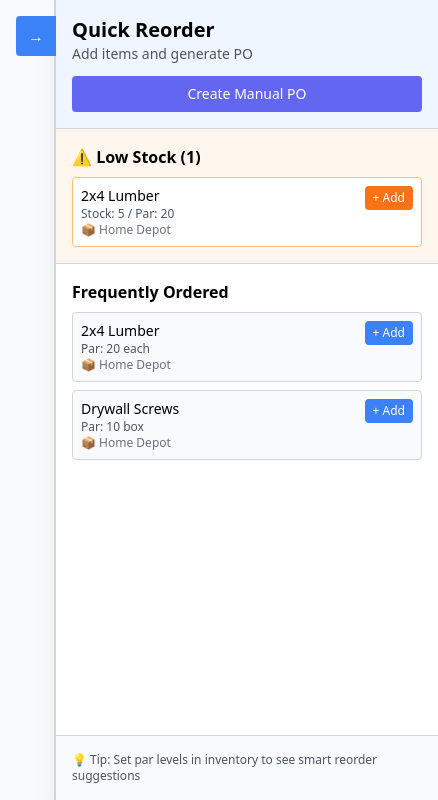
QuickReorder Component - Phase 2A › should add item to cart with par level quantity
Expected: the text "2x4 Lumber" below "⚠️ Low Stock (" is shown, 81,186 -> 159,205
Click the button "+ Add" in the row of "/ Par:" at (389, 198), box 365,186 -> 413,210
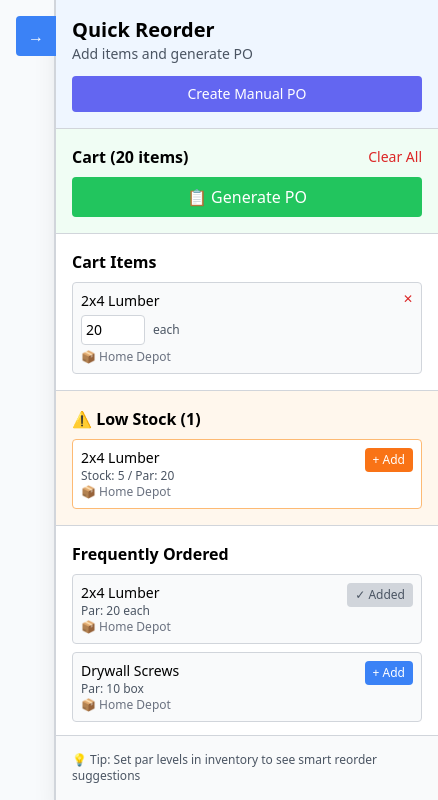
Expected: the text "Cart (20 items)" is shown, 72,145 -> 188,169
Expected: the number field is shown, 81,315 -> 145,345
